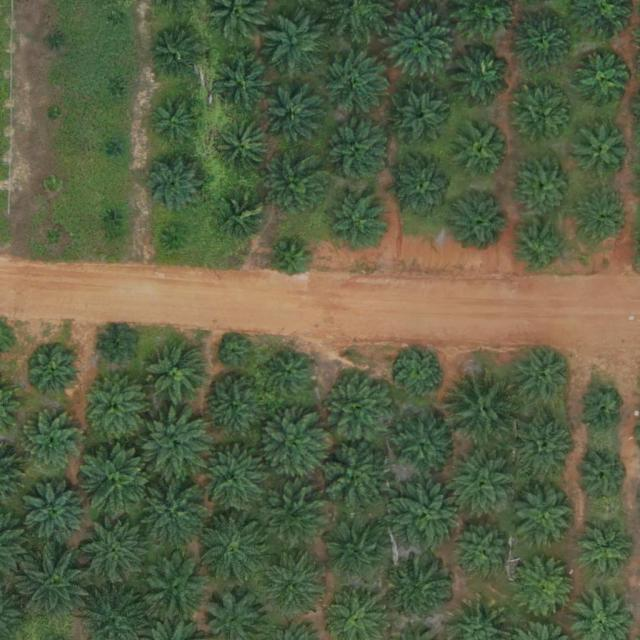Healthy: (16, 547, 94, 626), (79, 441, 157, 520), (131, 472, 209, 551), (197, 511, 275, 590), (322, 369, 400, 448), (314, 438, 392, 517), (389, 478, 467, 557), (446, 369, 524, 448), (444, 446, 522, 525), (194, 443, 272, 521), (385, 14, 456, 85), (140, 554, 211, 625), (22, 479, 92, 550), (140, 409, 210, 480), (258, 411, 328, 482), (259, 481, 329, 552), (140, 150, 210, 220), (79, 515, 149, 585), (265, 156, 328, 219), (324, 121, 387, 184), (327, 190, 390, 253), (19, 413, 82, 476), (84, 376, 147, 439), (202, 377, 265, 440), (394, 558, 457, 621), (514, 485, 577, 548), (514, 10, 576, 73), (449, 45, 512, 107), (324, 54, 387, 116), (263, 13, 325, 76), (211, 51, 273, 114), (147, 343, 209, 406), (327, 523, 389, 586), (514, 419, 577, 481), (515, 559, 578, 621), (394, 158, 456, 220), (451, 190, 513, 252), (515, 156, 577, 218), (393, 414, 455, 476), (512, 346, 574, 408), (576, 54, 631, 109), (392, 91, 447, 146), (267, 92, 322, 147), (149, 27, 204, 82), (218, 122, 273, 177), (576, 125, 631, 180), (577, 191, 632, 246), (28, 346, 83, 401), (266, 558, 321, 613), (578, 525, 633, 580), (517, 91, 571, 146), (456, 123, 510, 178), (515, 221, 569, 276), (457, 528, 511, 583), (397, 349, 444, 397), (222, 196, 269, 243), (267, 351, 314, 398)
Small: (151, 94, 206, 150), (575, 449, 629, 504), (577, 387, 624, 434), (98, 327, 137, 367), (271, 241, 310, 280), (220, 338, 251, 369), (165, 226, 189, 250), (112, 14, 128, 29), (109, 86, 124, 102), (50, 34, 65, 50), (47, 108, 63, 123), (47, 230, 62, 246), (109, 142, 125, 157), (105, 210, 120, 226), (45, 178, 60, 193)
